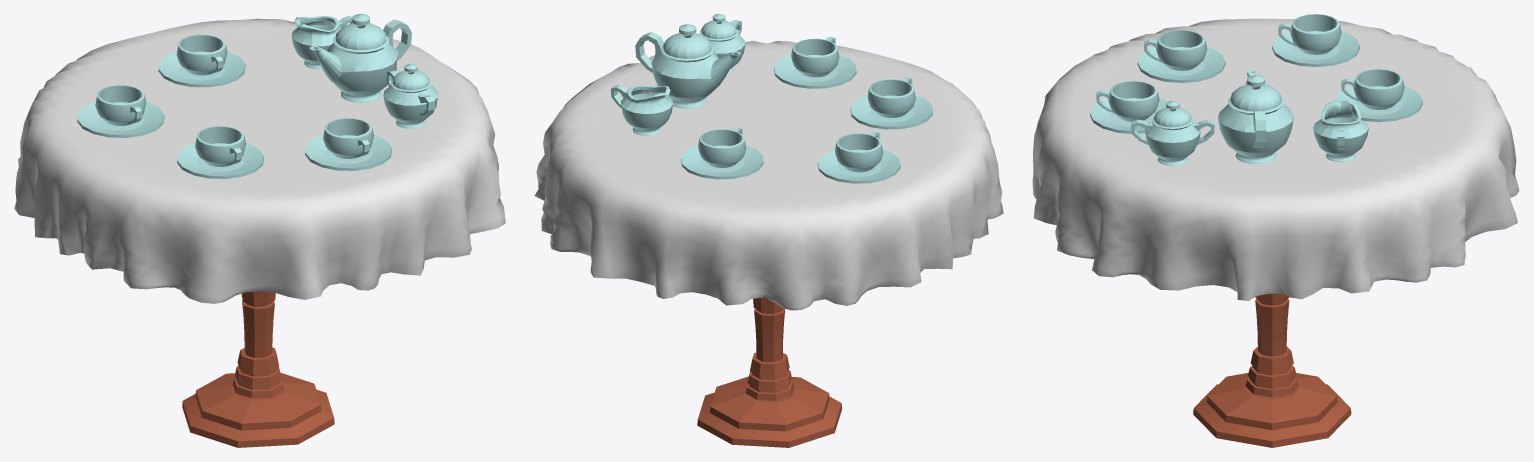
File: tea_set_sketcfab.fbx
3 renders of one model, left to right at view 1: azimuth 30°, elevation 25°; view 2: azimuth 150°, elevation 25°; view 3: azimuth 270°, elevation 25°, orthographic. The views are drawn at different scales.
Visible parts, largest first — view 1: cloth, table, teapot, tea_cup4, tea_cup2, tea_cup1, tea_cup3, sugar_bowl, creamer; view 2: cloth, table, teapot, tea_cup3, tea_cup2, tea_cup4, tea_cup1, creamer, sugar_bowl; view 3: cloth, table, teapot, tea_cup3, tea_cup2, tea_cup4, sugar_bowl, tea_cup1, creamer.
Part boxes in pixels (left/top/right/bottom): cloth: left=14, top=18, right=505, bottom=303; table: left=182, top=291, right=334, bottom=447; teapot: left=310, top=14, right=411, bottom=102; tea_cup4: left=158, top=34, right=245, bottom=87; tea_cup2: left=177, top=126, right=263, bottom=178; tea_cup1: left=305, top=118, right=391, bottom=170; tea_cup3: left=77, top=85, right=164, bottom=137; sugar_bowl: left=383, top=64, right=438, bottom=128; creamer: left=291, top=16, right=352, bottom=69; cloth: left=534, top=41, right=1003, bottom=310; table: left=697, top=297, right=841, bottom=447; teapot: left=635, top=24, right=740, bottom=108; tea_cup3: left=817, top=131, right=900, bottom=183; tea_cup2: left=850, top=77, right=932, bottom=129; tea_cup4: left=680, top=127, right=763, bottom=179; tea_cup1: left=774, top=37, right=856, bottom=88; creamer: left=611, top=85, right=672, bottom=135; sugar_bowl: left=699, top=14, right=745, bottom=74; cloth: left=1032, top=18, right=1519, bottom=300; table: left=1193, top=293, right=1351, bottom=447; teapot: left=1218, top=70, right=1293, bottom=164; tea_cup3: left=1272, top=14, right=1359, bottom=66; tea_cup2: left=1137, top=30, right=1225, bottom=82; tea_cup4: left=1335, top=69, right=1422, bottom=122; sugar_bowl: left=1131, top=101, right=1214, bottom=165; tea_cup1: left=1090, top=81, right=1167, bottom=133; creamer: left=1313, top=100, right=1368, bottom=162.
Bounding box in the file's own units: 21.07 × 18.44 × 21.14.
